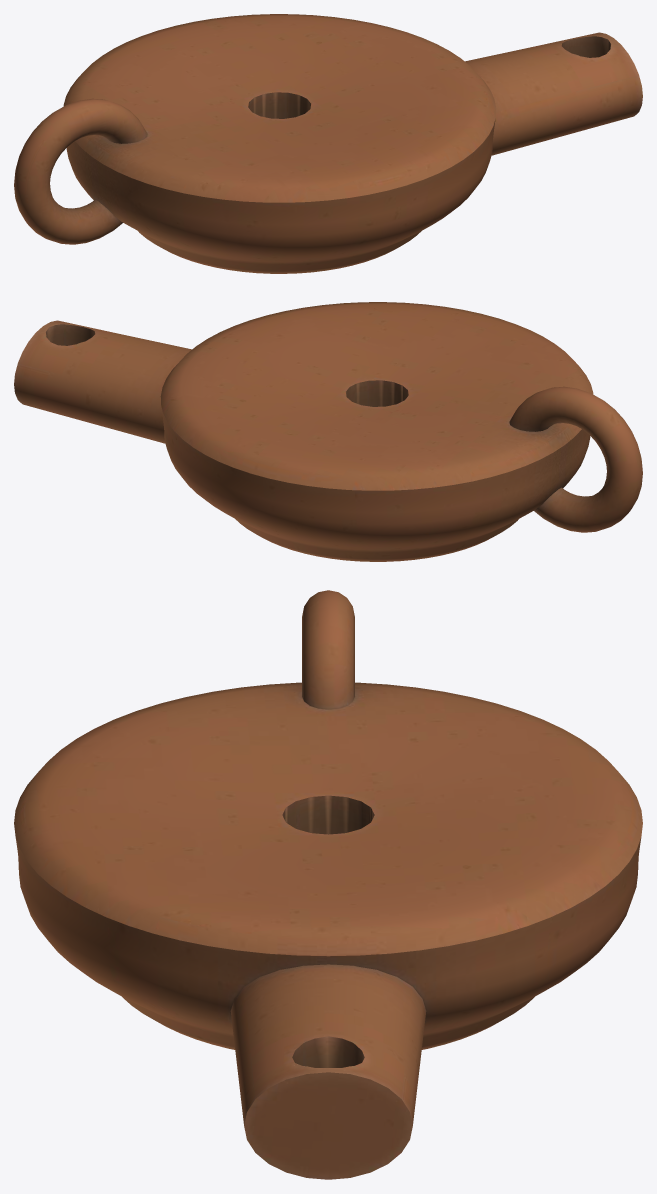
Rendered from oil_lamp.glb.
3 views of the same model, one above another, from view 1: azimuth 30°, elevation 25°; view 2: azimuth 150°, elevation 25°; view 3: azimuth 270°, elevation 25° (orthographic). The views are drawn at different scales.
Visible parts, largest first — view 1: oil_lamp; view 2: oil_lamp; view 3: oil_lamp.
Part boxes in pixels (bbox=[...]): oil_lamp: bbox=[14, 14, 642, 273]; oil_lamp: bbox=[14, 302, 642, 561]; oil_lamp: bbox=[14, 590, 642, 1179].
Bounding box in the file's own units: 0.152 × 0.0393 × 0.0954.
1 material, 1 textured.
